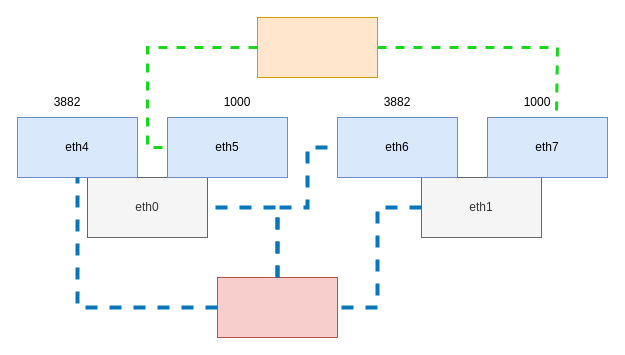
The diagram is 625 pixels wide and 355 high, and some of its shapes have lost their labels. The centre of each missing label's shape, as x and y in pixels:
"ovs-sriov0 external" goes at (x=277, y=307).
"ovs-sriov1 internal" goes at (x=317, y=47).
